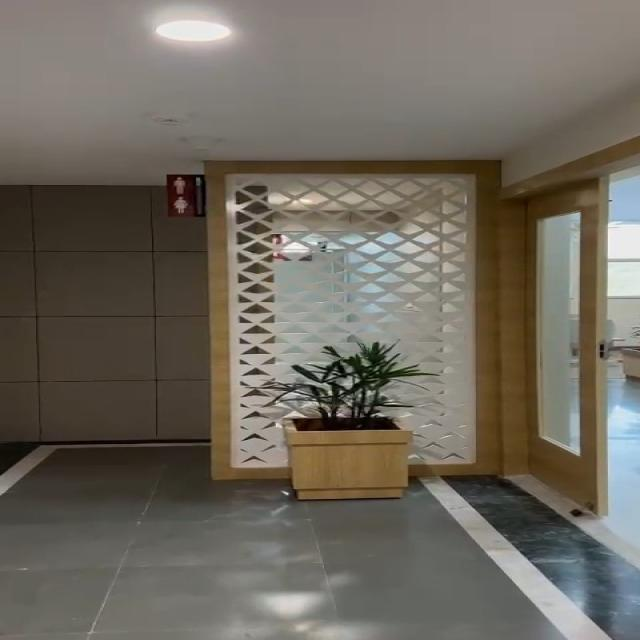door: (491, 192, 609, 502)
floor: (0, 500, 640, 640), (0, 441, 208, 499)
furniture: (275, 352, 424, 502)
